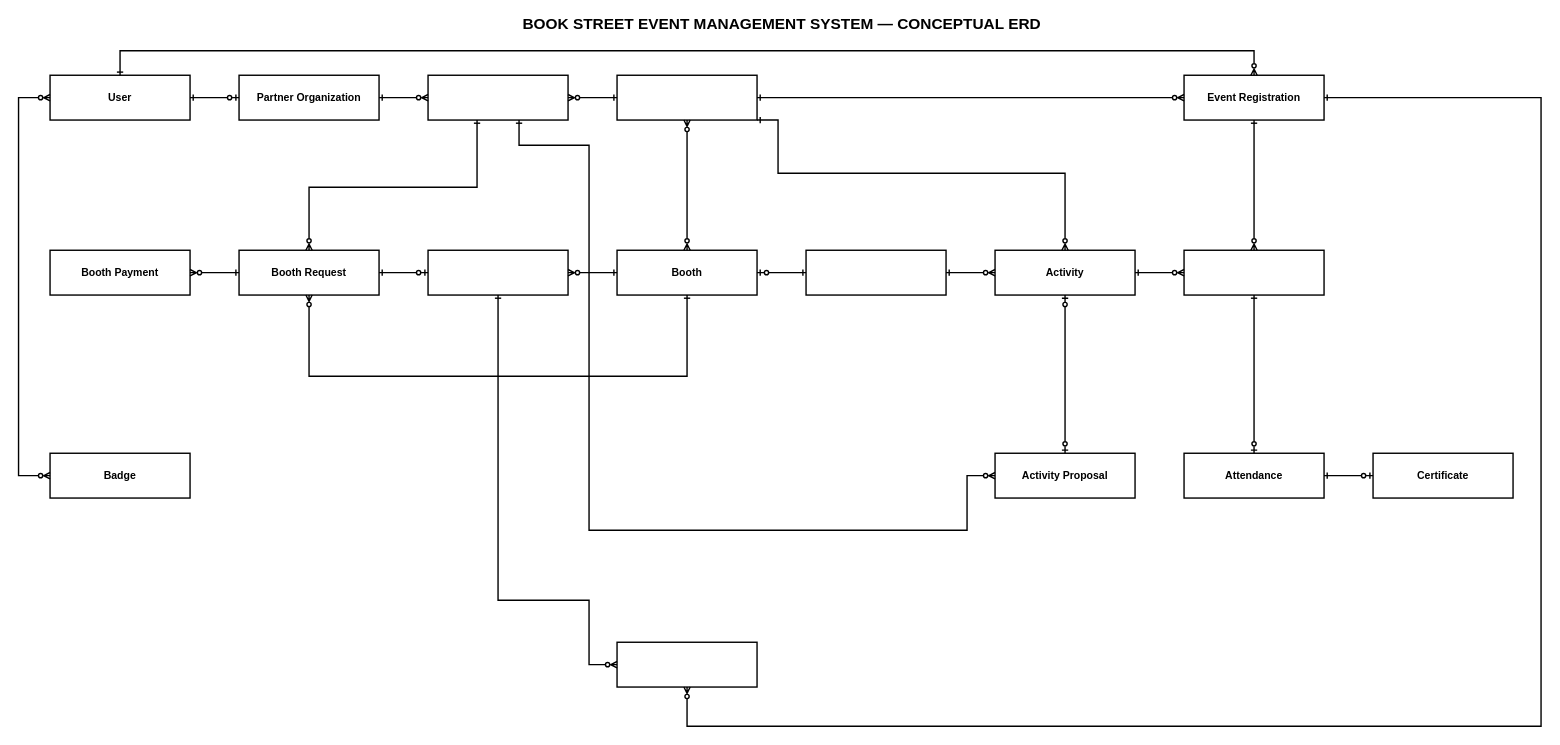
Some shapes in this 1560 by 745 pixel diagram are drawn without their labels. Here are the shapes that lost their labels. From the top down, the centre of each, then its label:
At point 497,97: "Partner Event Application".
At point 686,97: "Event".
At point 497,272: "Booth Assignment".
At point 875,272: "Location".
At point 1253,272: "Activity Registration".
At point 686,664: "Booth Visit".
